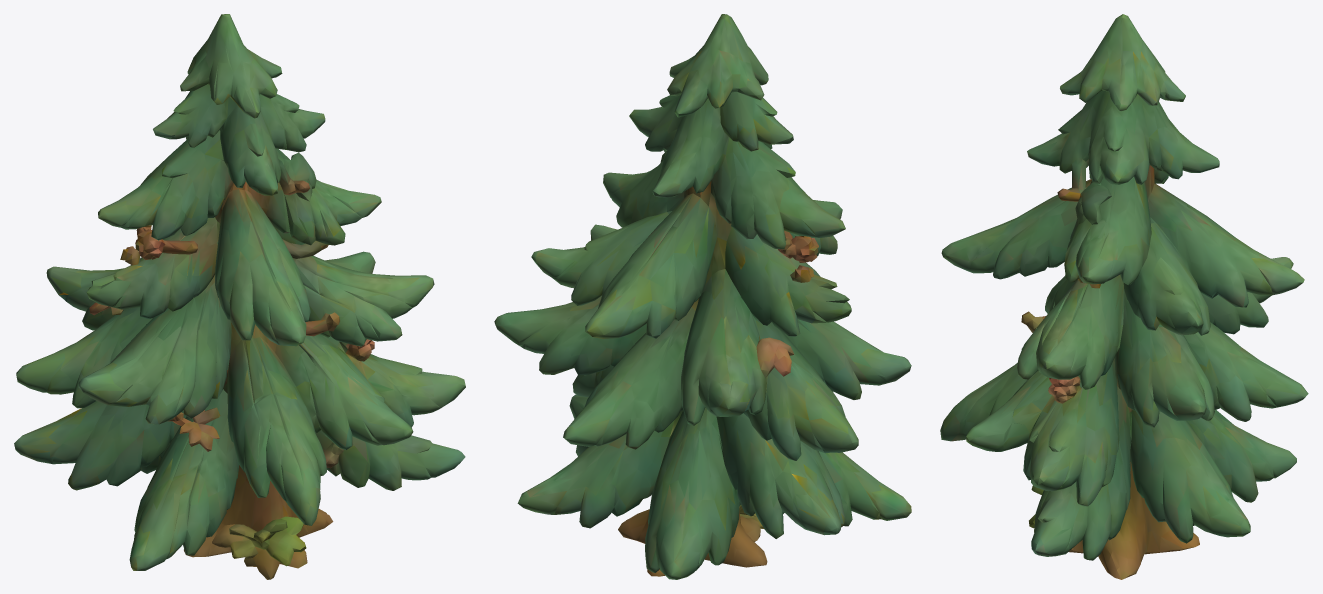
The model's file is pino.glb.
3 renders of one model, left to right at view 1: azimuth 30°, elevation 25°; view 2: azimuth 150°, elevation 25°; view 3: azimuth 270°, elevation 25°, orthographic. The views are drawn at different scales.
Visible parts, largest first — view 1: pino_malla; view 2: pino_malla; view 3: pino_malla.
Boxes of the visible parts, x1,y1,x2,y2 form: pino_malla: [14, 14, 465, 579]; pino_malla: [494, 14, 911, 579]; pino_malla: [940, 14, 1308, 579].
Bounding box in the file's own units: 0.2578 × 0.3656 × 0.2315.
1 material, 1 textured.
